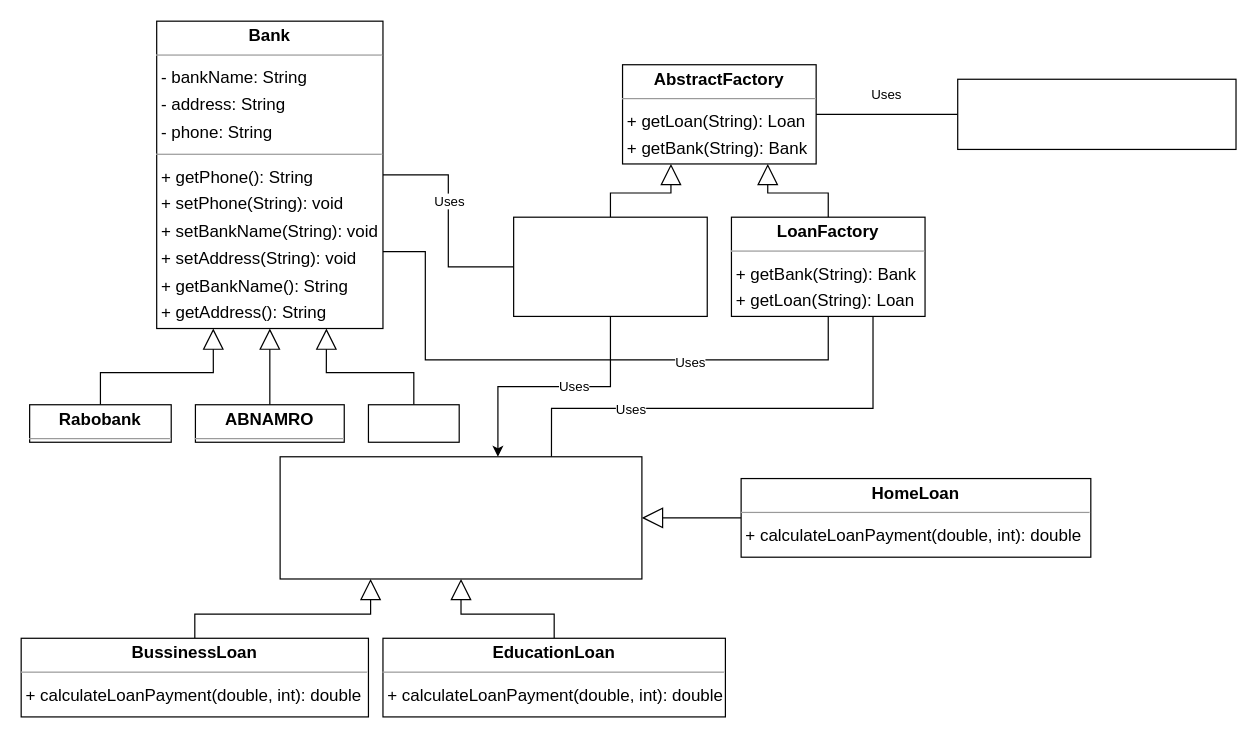
The diagram is 1260 pixels wide and 738 high, and some of its shapes have lost their labels. The centre of each missing label's shape, as x and y in pixels:
"BankFactory + getLoan(String): Loan + getBank(String): Bank" goes at point 609,266.
"FactoryCreator + getFactory(String): AbstractFactory" goes at point 1096,113.
"ING" goes at point 413,423.
"Loan - rate: double + calculateLoanPayment(double, int): double" goes at point 460,517.
